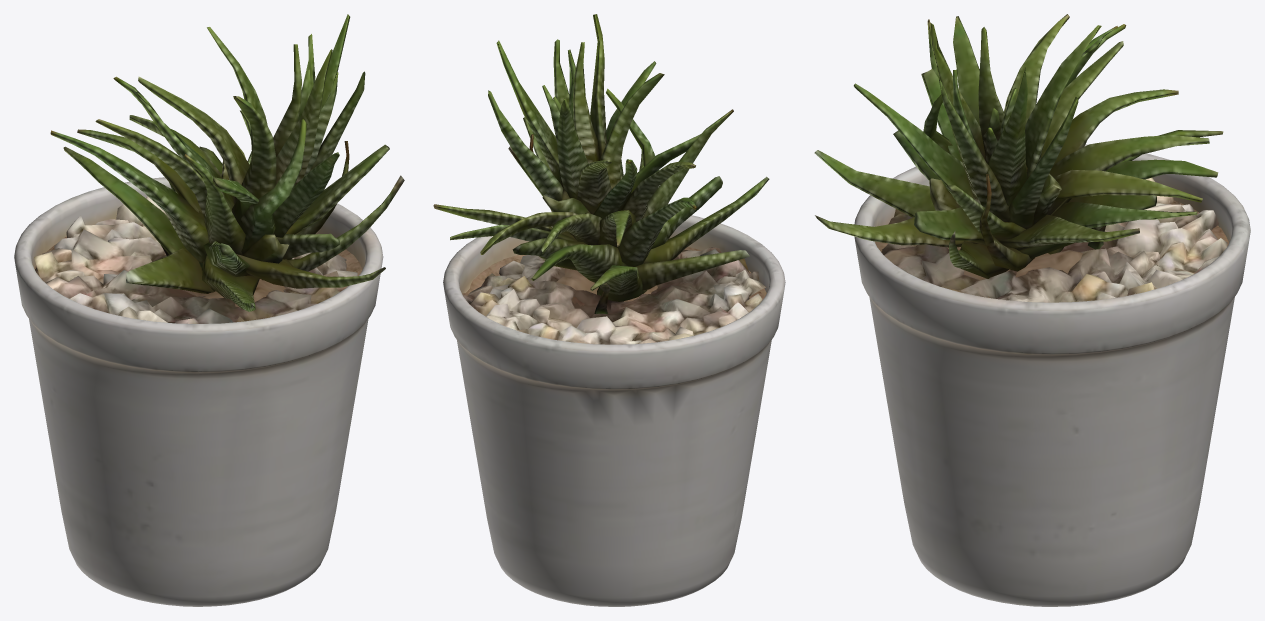
Rendered from potted_plant_04.glb.
3 renders of one model, left to right at view 1: azimuth 30°, elevation 25°; view 2: azimuth 150°, elevation 25°; view 3: azimuth 270°, elevation 25°, orthographic. The views are drawn at different scales.
Visible parts, largest first — view 1: potted_plant_04_pot, potted_plant_04_plant, potted_plant_04_ground, potted_plant_04_dirt; view 2: potted_plant_04_pot, potted_plant_04_plant, potted_plant_04_ground, potted_plant_04_dirt; view 3: potted_plant_04_pot, potted_plant_04_plant, potted_plant_04_ground, potted_plant_04_dirt.
Boxes of the visible parts, left/top/right/bottom form: potted_plant_04_pot: left=14, top=177, right=383, bottom=606; potted_plant_04_plant: left=50, top=14, right=404, bottom=311; potted_plant_04_ground: left=34, top=196, right=357, bottom=323; potted_plant_04_dirt: left=34, top=236, right=362, bottom=307; potted_plant_04_pot: left=443, top=215, right=785, bottom=606; potted_plant_04_plant: left=433, top=14, right=769, bottom=313; potted_plant_04_ground: left=462, top=247, right=766, bottom=344; potted_plant_04_dirt: left=462, top=247, right=766, bottom=306; potted_plant_04_pot: left=854, top=144, right=1250, bottom=606; potted_plant_04_plant: left=814, top=14, right=1223, bottom=278; potted_plant_04_ground: left=881, top=177, right=1227, bottom=302; potted_plant_04_dirt: left=875, top=200, right=1228, bottom=297.
Size of the model in its own units: 0.1679 by 0.2672 by 0.1845.
1 material, 1 textured.
